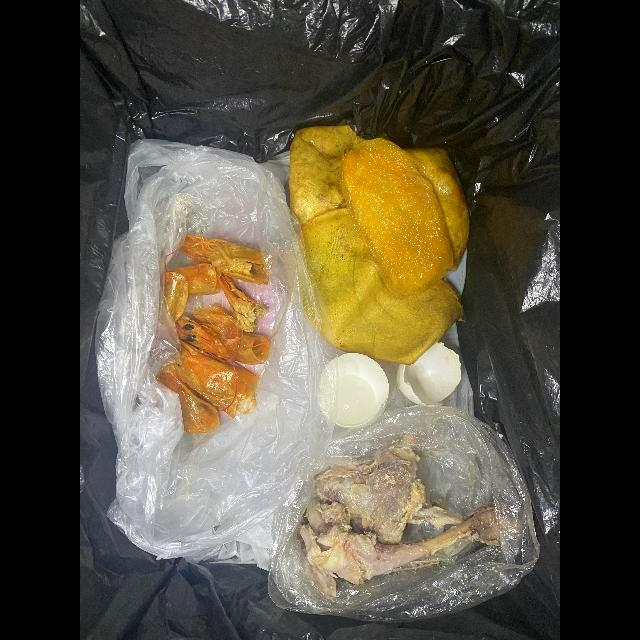left_over_food: (300, 445, 501, 586), (163, 233, 271, 435)
